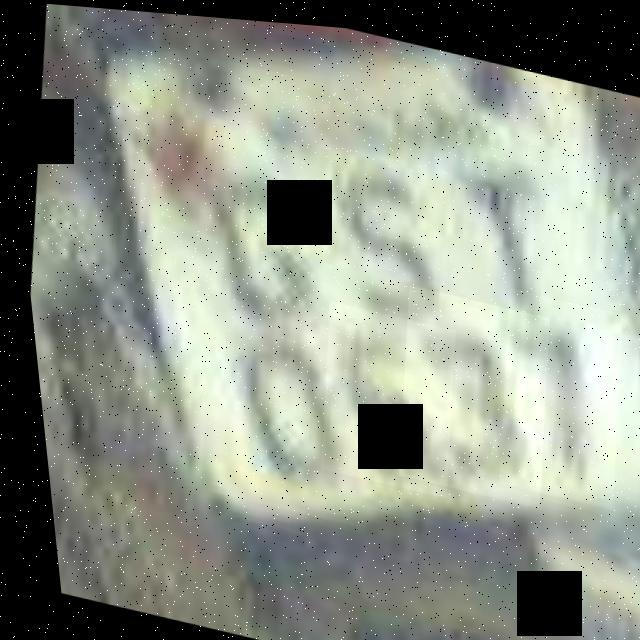0: (190, 295, 375, 512)
3: (374, 277, 560, 502)
5: (298, 294, 463, 494)
7: (473, 278, 634, 502)
S: (299, 136, 455, 333)
T: (427, 139, 580, 320)
